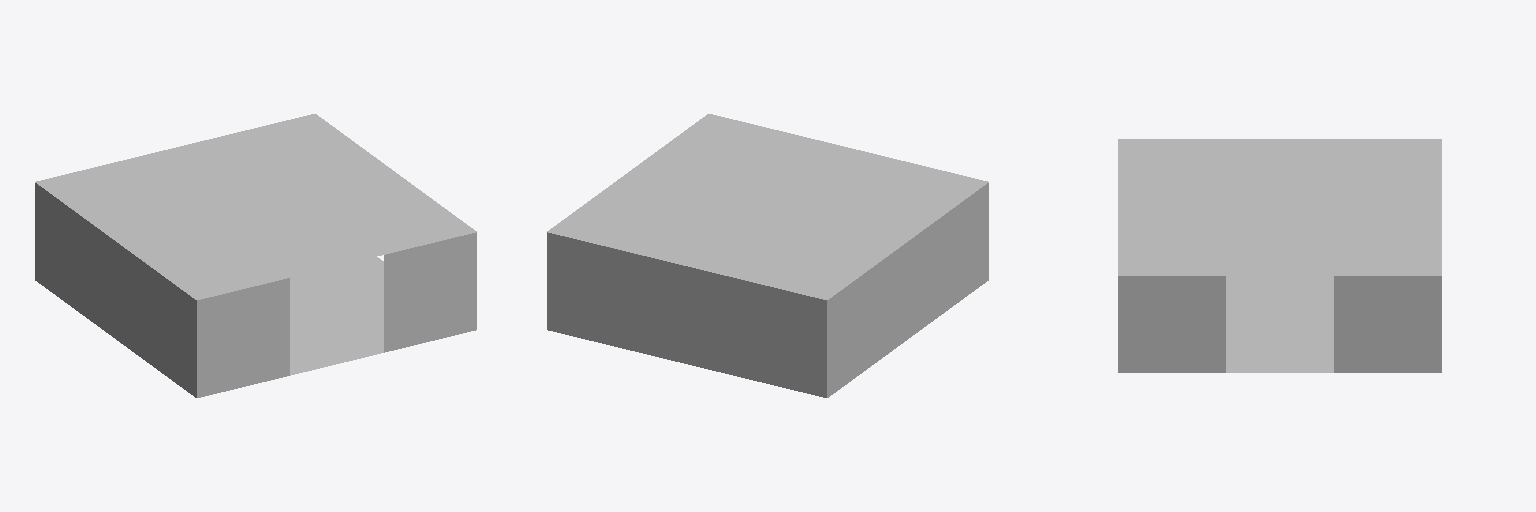
Rendered from room-o2.obj.
The picture shows the model from 3 angles: view 1: azimuth 30°, elevation 25°; view 2: azimuth 150°, elevation 25°; view 3: azimuth 270°, elevation 25°; orthographic projection.
Parts seen in each view (by area): view 1: Cube.001; view 2: Cube.001; view 3: Cube.001.
Part boxes in pixels (x1,y1,x2,y2): Cube.001: (35,114,476,397); Cube.001: (547,114,988,397); Cube.001: (1118,139,1441,372).
Size of the model in its own units: 384 by 128 by 384.